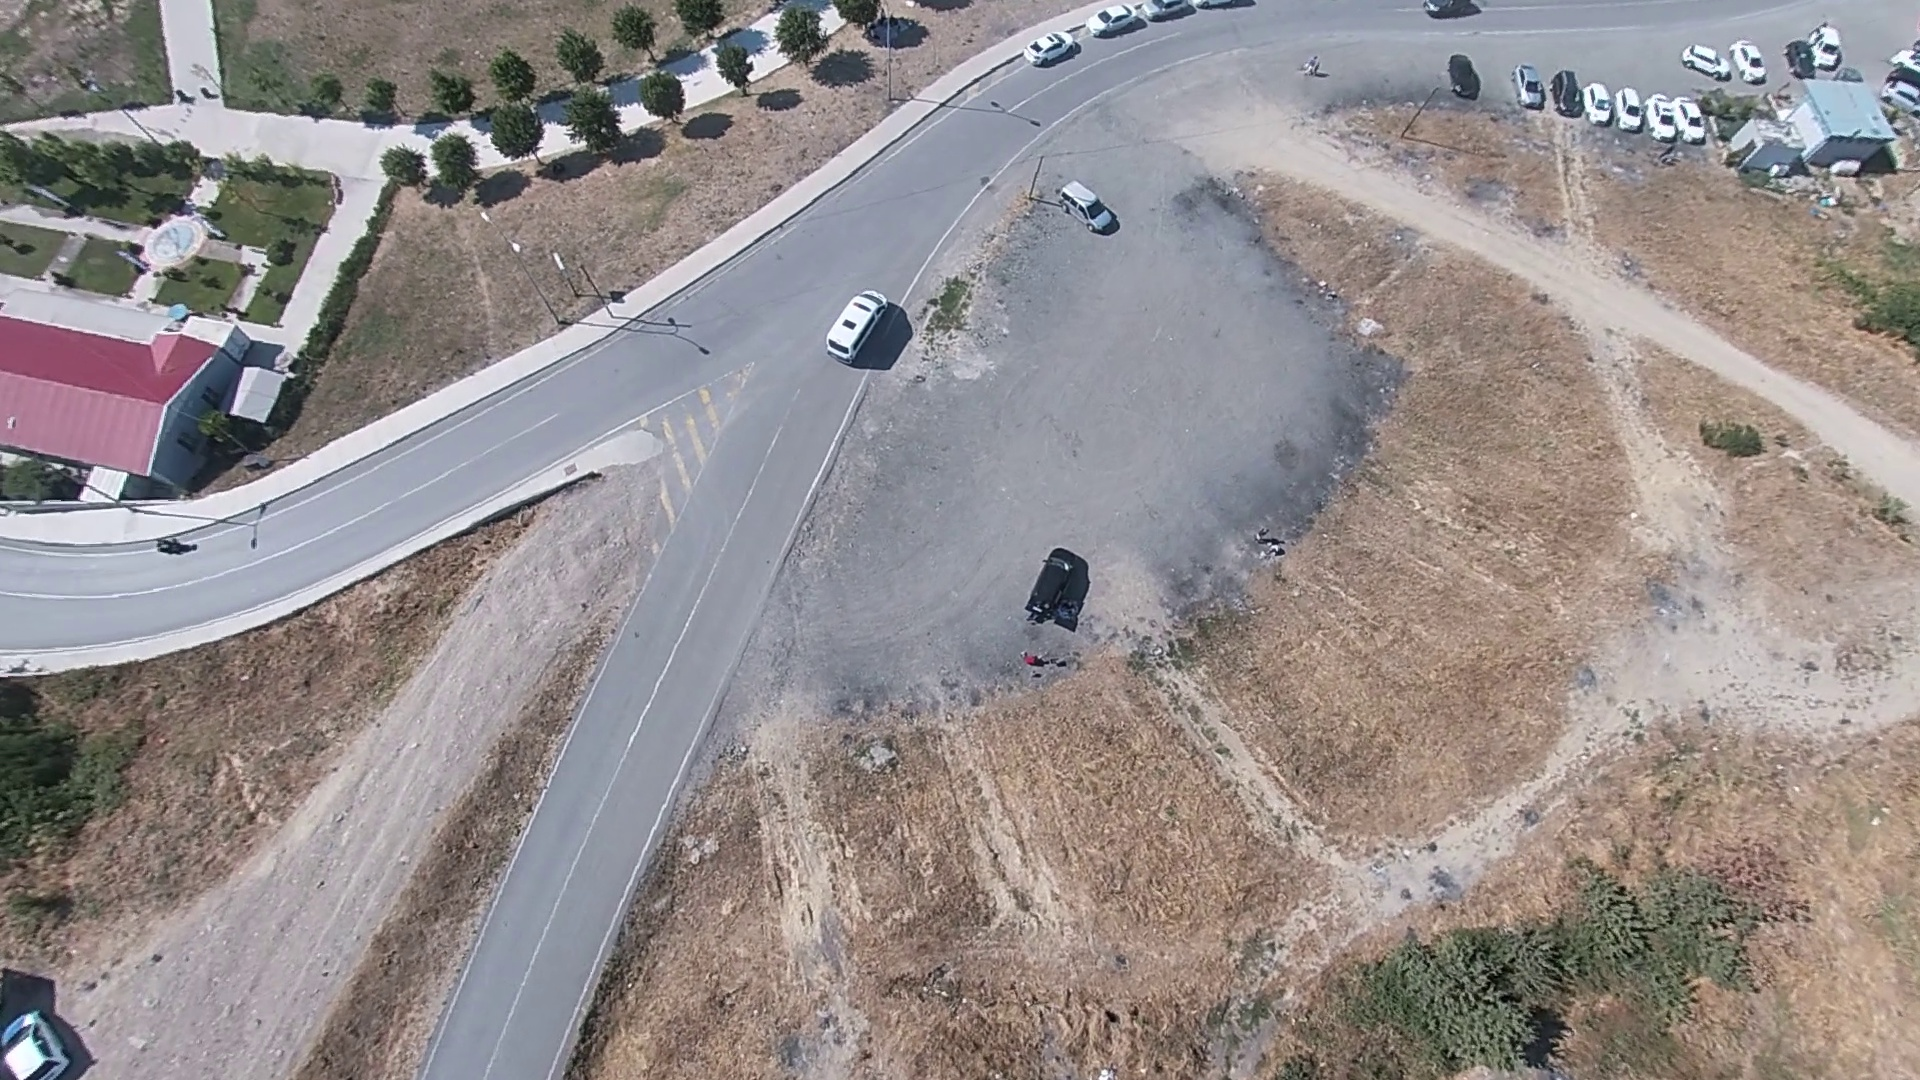araba: (1021, 542, 1088, 634), (823, 281, 899, 361), (1, 1009, 73, 1077), (1062, 179, 1121, 233), (1673, 36, 1729, 88), (1021, 28, 1077, 76), (1642, 94, 1687, 154), (1671, 95, 1706, 156), (1727, 37, 1766, 88), (1811, 20, 1842, 79), (1584, 82, 1621, 132), (1092, 3, 1145, 34), (1611, 82, 1643, 135), (1444, 51, 1480, 98), (1782, 37, 1816, 84), (1516, 65, 1549, 109), (1556, 65, 1581, 120)
